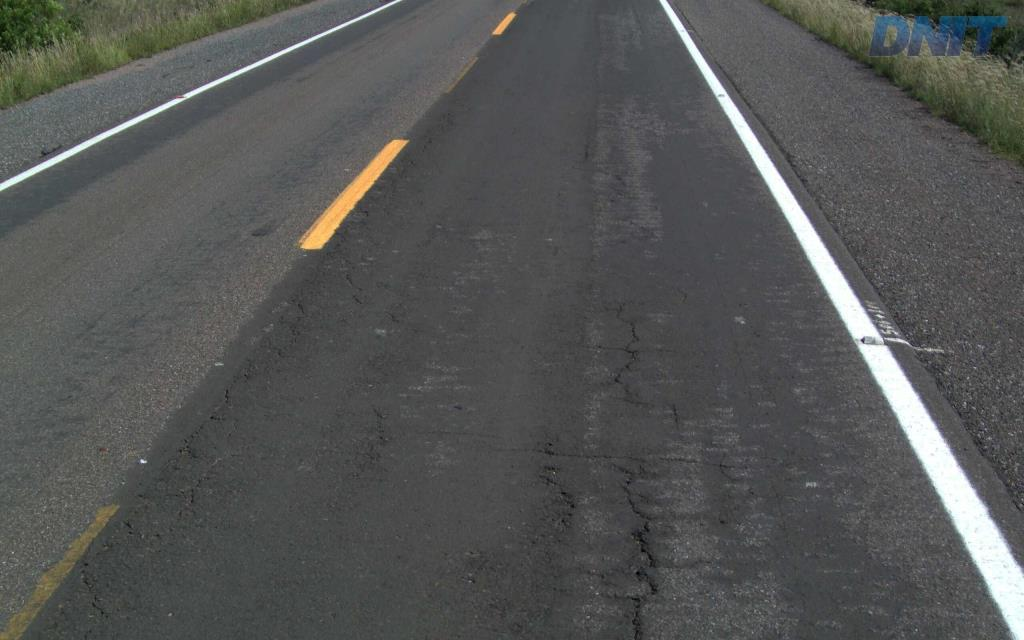crack: (612, 463, 660, 568), (623, 592, 648, 639)
